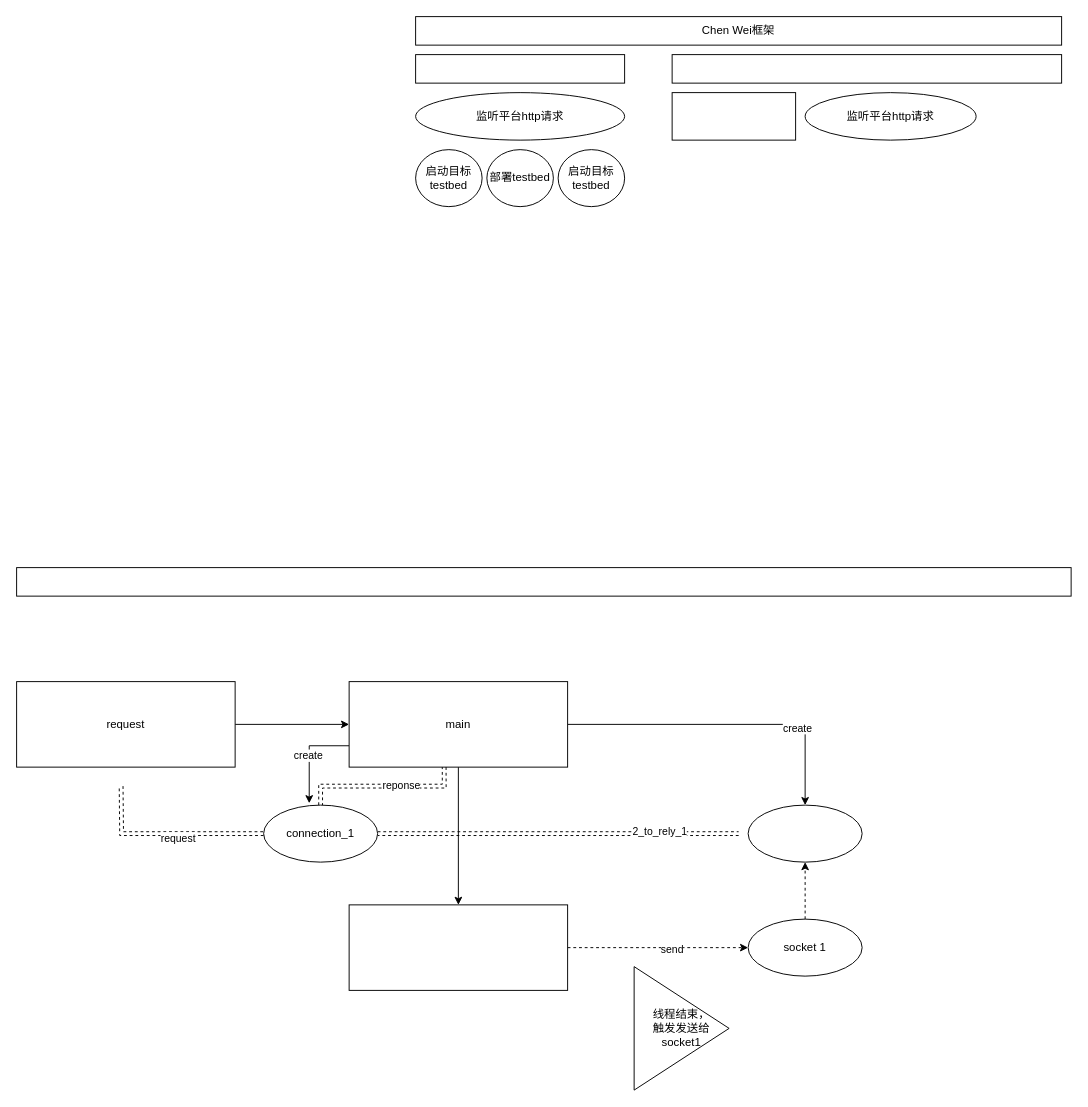
This 1088x1107 diagram has some shape labels left out. Each missing label, with the centre of its shape:
"date struct" belongs at point 733,116.
"HTTP Server" belongs at point 520,68.
"mongoose multi thread case" belongs at point 543,581.
"socket 2 connection_2" belongs at point 804,833.
"Task Manager" belongs at point 866,68.
"thread_execute" belongs at point 458,947.
